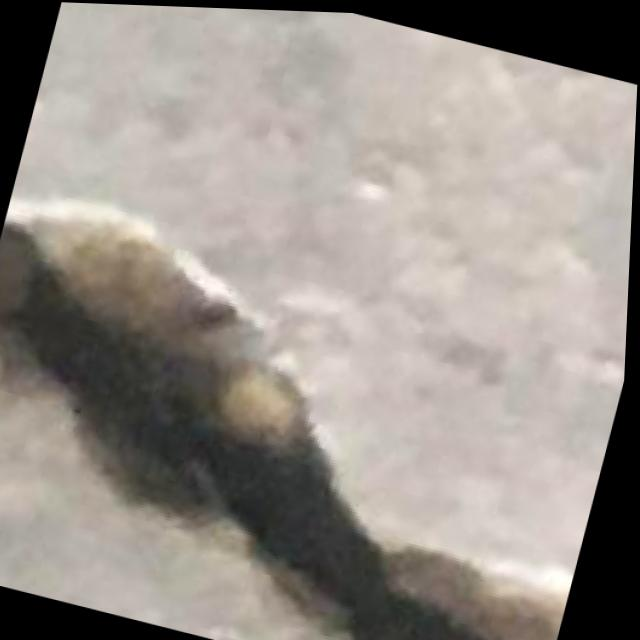Crack: (0, 187, 633, 640)
